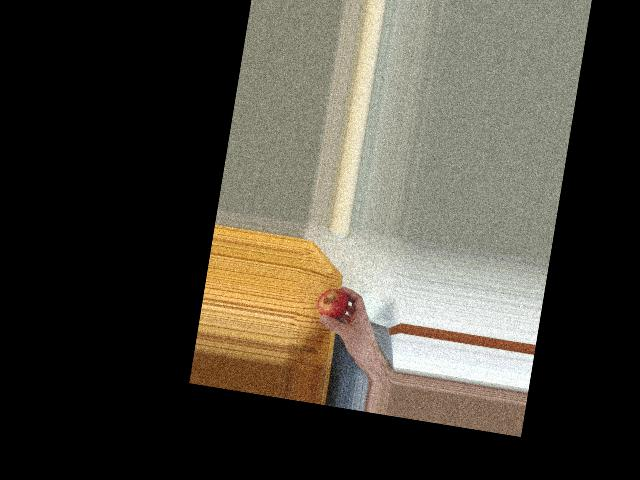apple: (313, 284, 351, 325)
